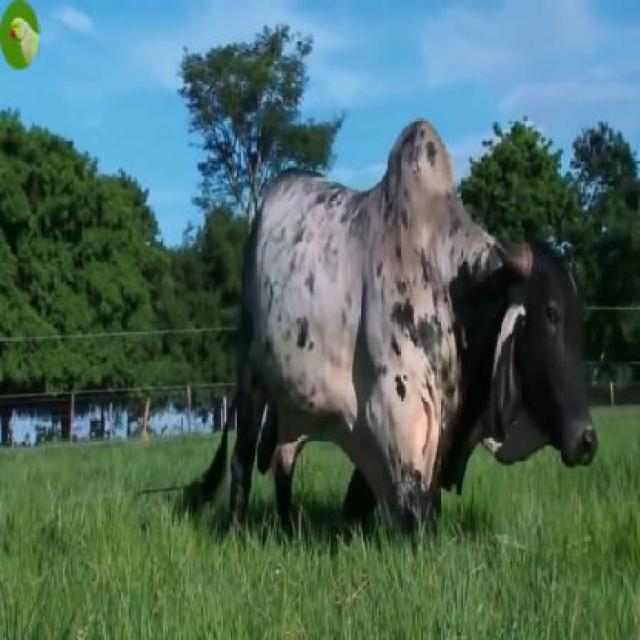Cow: (242, 118, 598, 588)
